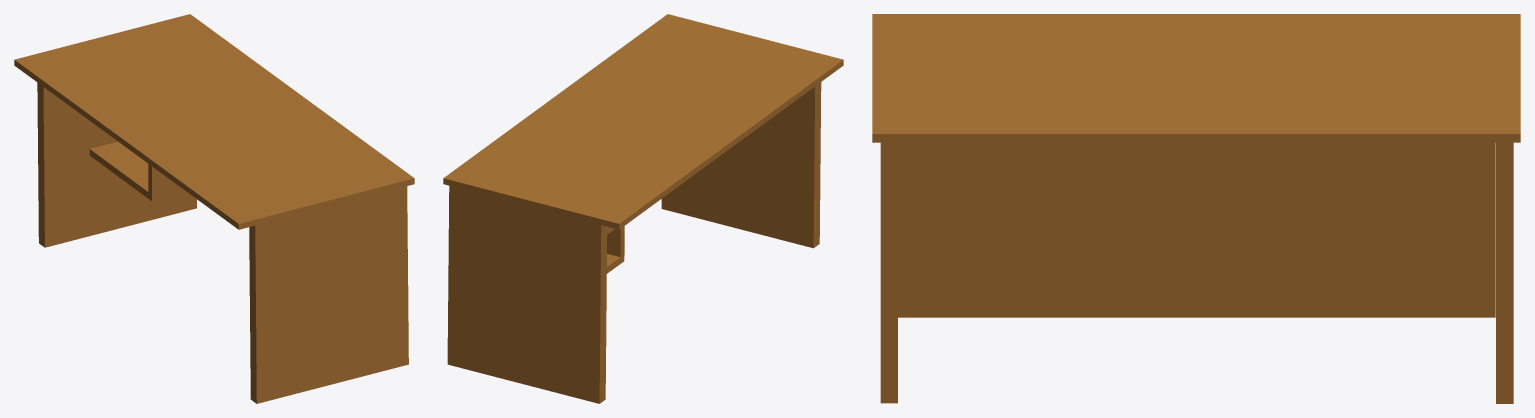
Rendered from стол.glb.
3 renders of one model, left to right at view 1: azimuth 30°, elevation 25°; view 2: azimuth 150°, elevation 25°; view 3: azimuth 270°, elevation 25°, orthographic. The views are drawn at different scales.
Visible parts, largest first — view 1: Cube; view 2: Cube; view 3: Cube.
Part boxes in pixels (x1,y1,x2,y2): Cube: [14, 14, 414, 403]; Cube: [443, 14, 843, 403]; Cube: [872, 14, 1520, 403].
Bounding box in the file's own units: 3.25 × 3.36 × 7.19.
